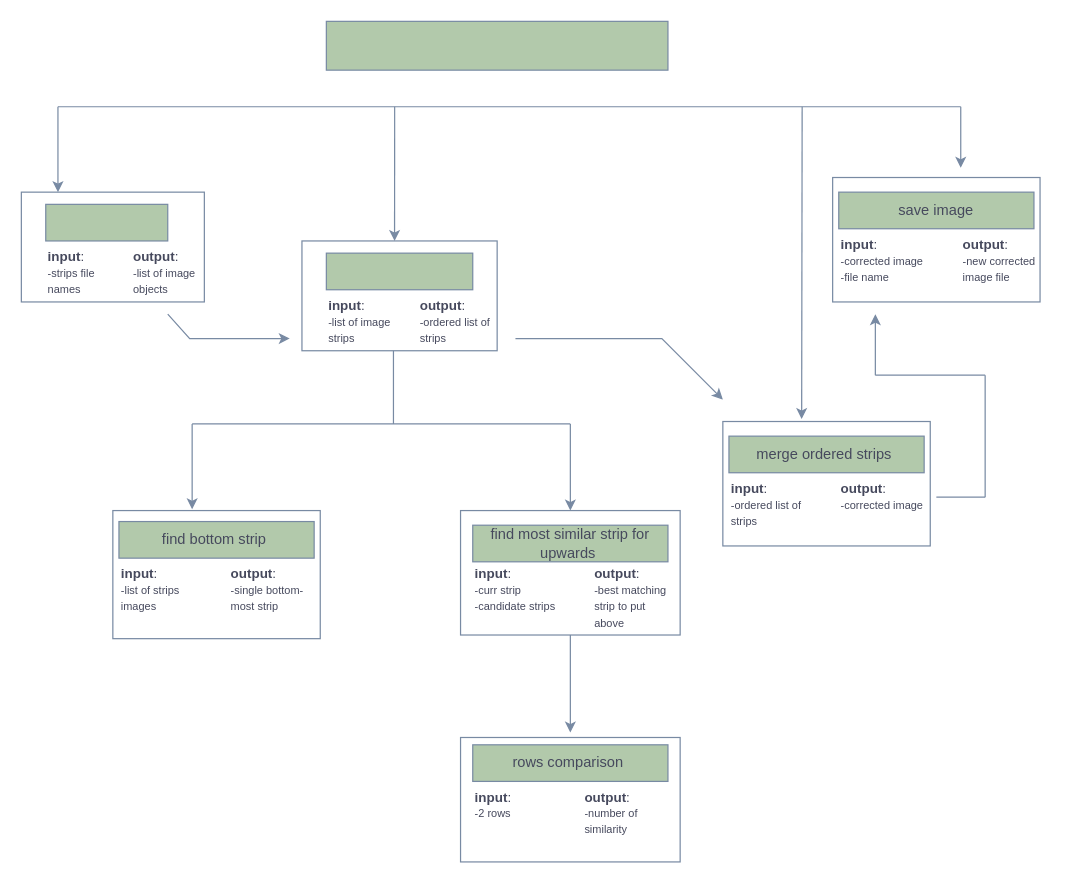
Some shapes in this 1080 by 883 pixel diagram are drawn without their labels. The centre of each missing label's shape, as x and y in pixels:
"build from bottom" goes at (399,271).
"Image Reconstruction" goes at (496,45).
"load images" goes at (106,222).
